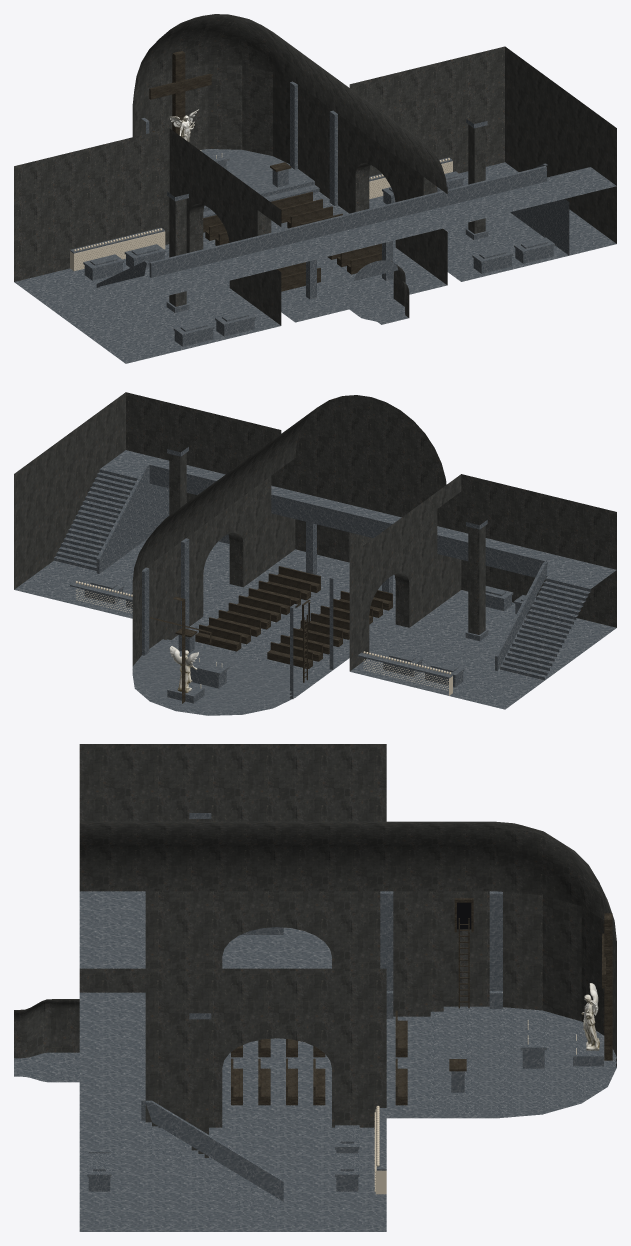
The model's file is gloaming-chapel.af4768bc.gltf.
3 views of the same model, one above another, from view 1: azimuth 30°, elevation 25°; view 2: azimuth 150°, elevation 25°; view 3: azimuth 270°, elevation 25° (orthographic). The views are drawn at different scales.
Visible parts, largest first — view 1: gloaming-chapel-mesh; view 2: gloaming-chapel-mesh, gloaming-chapel-angel; view 3: gloaming-chapel-mesh, gloaming-chapel-angel.
Boxes of the visible parts, <box> form: gloaming-chapel-mesh: <box>14,14,616,363</box>; gloaming-chapel-mesh: <box>14,392,616,715</box>; gloaming-chapel-angel: <box>169,646,198,692</box>; gloaming-chapel-mesh: <box>14,744,616,1231</box>; gloaming-chapel-angel: <box>581,983,599,1050</box>.
Size of the model in its own units: 35.5 by 11.8 by 27.5.
Materials: 7 (4 with a texture image).
